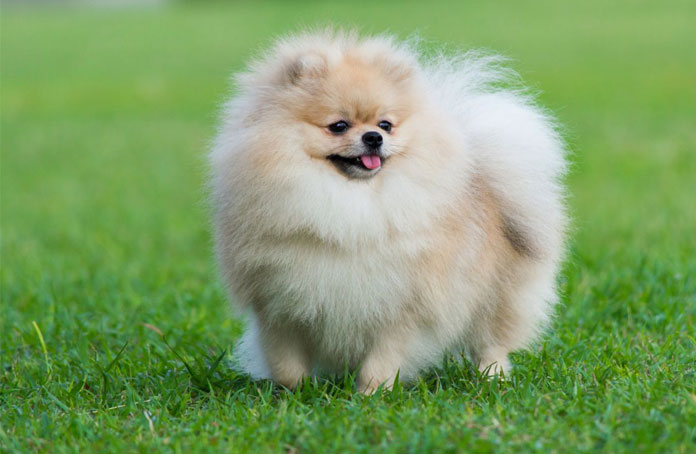pomeranian: (202, 15, 564, 404)
